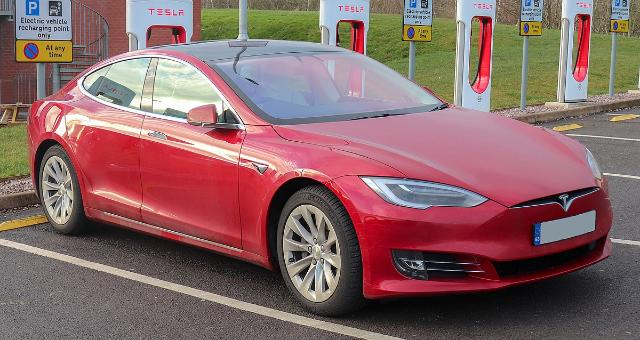tesla: (25, 39, 613, 318)
